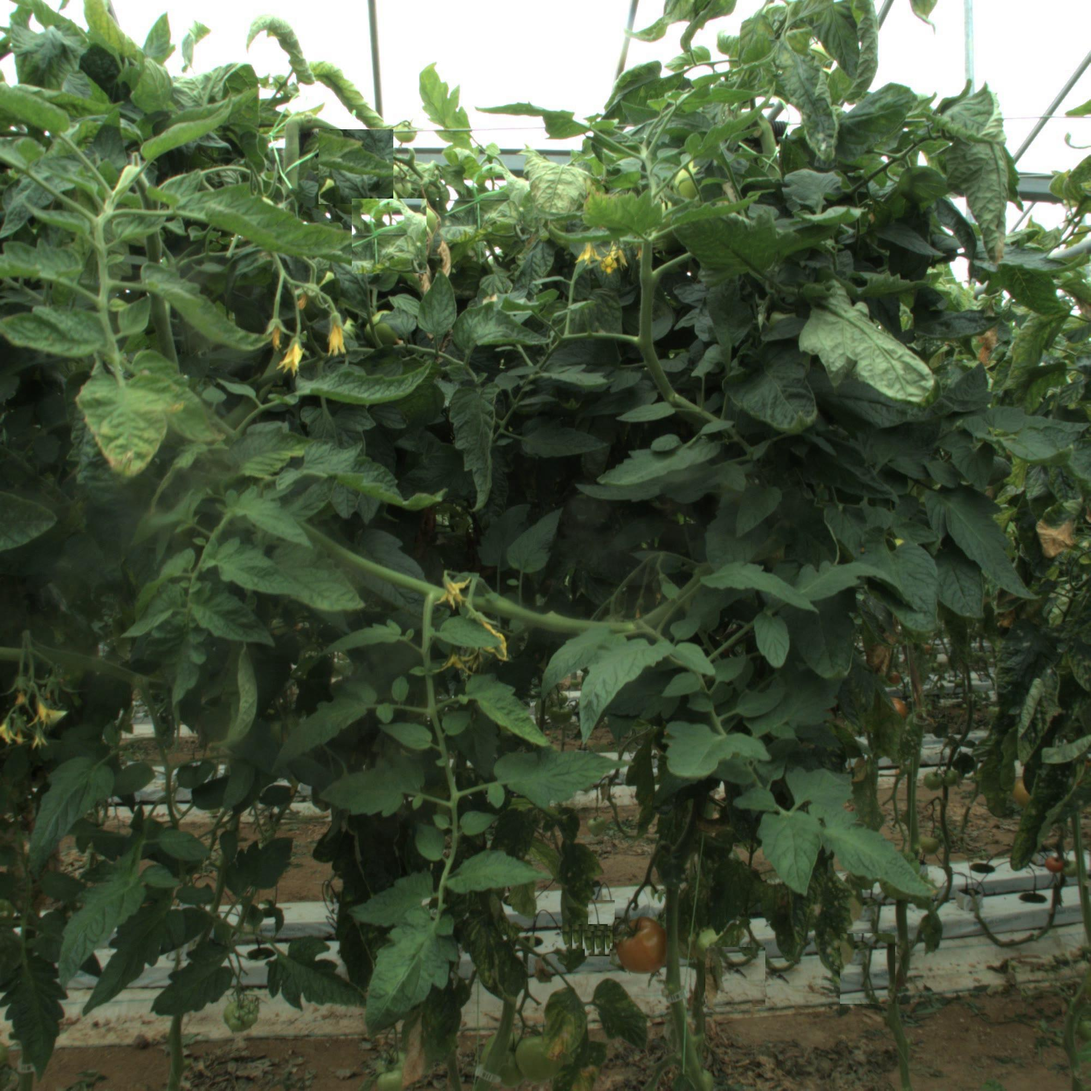semi-ripe: (612, 913, 672, 973)
unripe: (515, 1024, 570, 1079)
